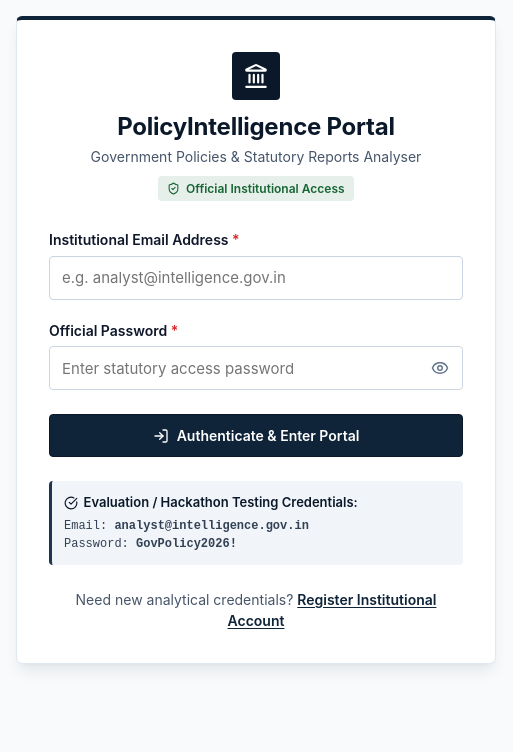
Scenario: LoginPage Component › displays API error state when authentication fails
This screenshot has width=513, height=752.
Type "analyst@intelligence.gov.in" into the field labelled "Institutional Email Address *" at (256, 278), box left=49, top=256, right=463, bottom=300
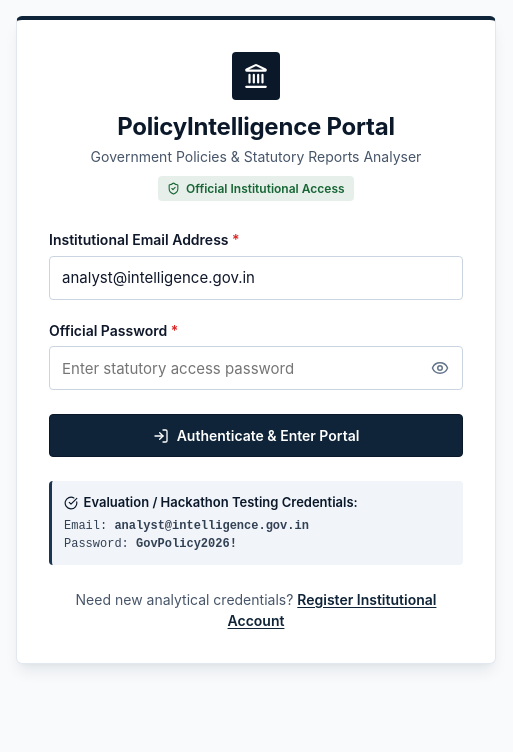
Type "WrongPassword123" into the password field labelled "Official Password *" at (256, 368), box left=49, top=346, right=463, bottom=390
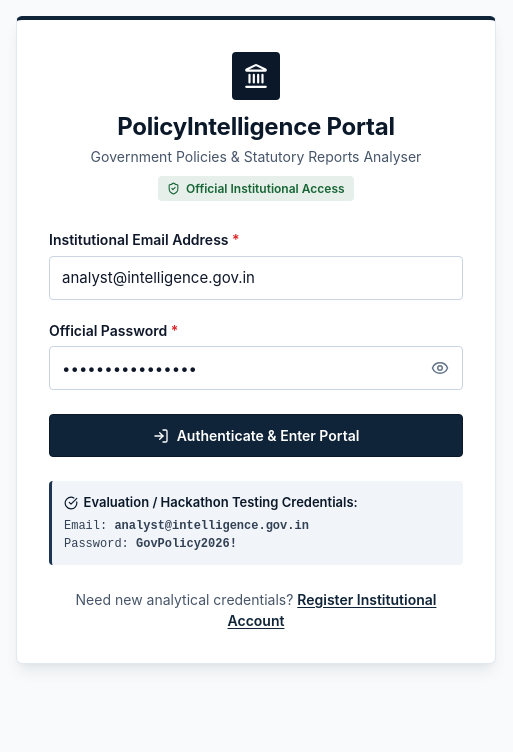
Click the button "Authenticate & Enter Portal" at (256, 436), box left=49, top=414, right=463, bottom=457
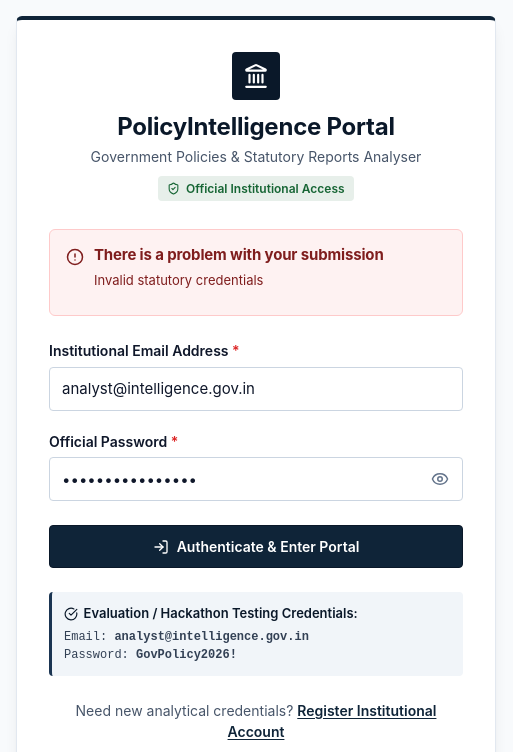
Result: the text "Invalid statutory credentials" is shown at left=94, top=272, right=264, bottom=288
